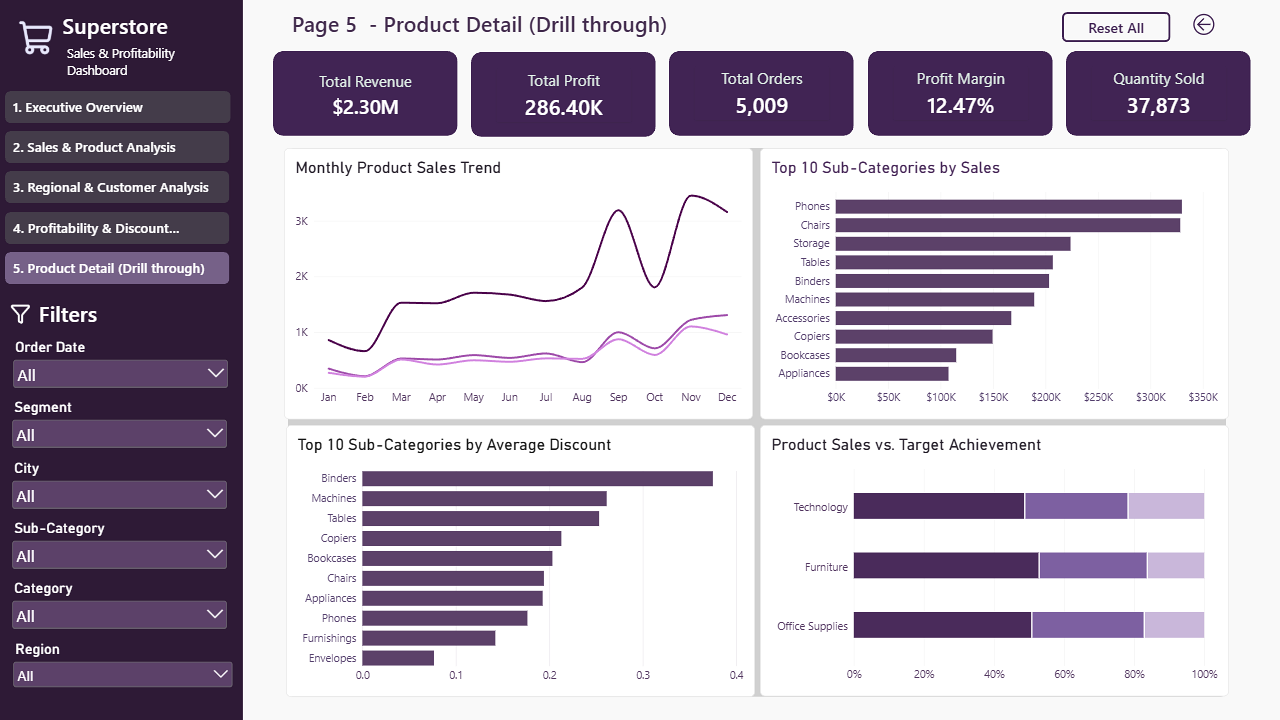

The page's visual inventory and layout, read from the dashboard file:
{"tool":"powerbi","page":{"name":"Product Detail ","canvas":[1920,1080],"ordinal":4},"visuals":[{"type":"shape","box":[0,0,367.1,1080],"z":0,"group":"g1"},{"type":"group","id":"g1","title":"Group 6","box":[0,0,367.1,1080],"z":0,"group":"g13"},{"type":"textbox","box":[77.1,20,209.6,48.3],"z":0,"group":"g7"},{"type":"shape","box":[412.6,79.6,275.5,126.6],"z":0,"group":"g8"},{"type":"shape","box":[1004.3,79.6,275.7,126.6],"z":0,"group":"g10"},{"type":"shape","box":[1300.3,79.6,275.7,126.6],"z":0,"group":"g11"},{"type":"shape","box":[1596.3,79.6,275.7,126.6],"z":0,"group":"g12"},{"type":"shape","box":[708.3,80.9,275.7,126.6],"z":0,"group":"g9"},{"type":"actionButton","box":[13.1,140,337,48],"z":0,"group":"g6"},{"type":"shape","box":[434.7,223.6,1400,819.4],"z":0},{"type":"textbox","box":[43,450,125.4,46.7],"z":0,"group":"g5"},{"type":"group","id":"g2","title":"Group 1","box":[18,510,338.4,537.9],"z":0,"group":"g3"},{"type":"slicer","fields":{"Values":["Sample - Superstore.Order Date"]},"box":[19.8,510,330.4,87],"z":0,"group":"g2"},{"type":"group","id":"g3","title":"Group 5","box":[4.9,20,351.5,1027.9],"z":1000,"group":"g1"},{"type":"image","box":[30,32,55,55],"z":1000,"group":"g13"},{"type":"textbox","box":[105.6,70,221.6,61.4],"z":1000,"group":"g7"},{"type":"group","id":"g4","title":"Group 13","box":[412.6,79.6,1460.3,128],"z":1000},{"type":"cardVisual","fields":{"Data":["Sum(Sample - Superstore.Sales)"]},"box":[412.8,101,277,88.2],"z":1000,"group":"g8"},{"type":"cardVisual","fields":{"Data":["Count(Sample - Superstore.Order ID)"]},"box":[1042.9,103.4,200,79],"z":1000,"group":"g10"},{"type":"cardVisual","fields":{"Data":["Sample - Superstore.Profit Margin"]},"box":[1338.9,103.4,200,79],"z":1000,"group":"g11"},{"type":"cardVisual","fields":{"Data":["Sum(Sample - Superstore.Quantity)"]},"box":[1634.9,103.4,200,79],"z":1000,"group":"g12"},{"type":"cardVisual","fields":{"Data":["Sum(Sample - Superstore.Profit)"]},"box":[747.7,106,200,79],"z":1000,"group":"g9"},{"type":"actionButton","box":[12.8,320,335,48],"z":1000,"group":"g6"},{"type":"image","box":[4.9,456.9,60.7,31.5],"z":1000,"group":"g5"},{"type":"slicer","fields":{"Values":["Sample - Superstore.Category"]},"box":[18.4,870,330.4,87],"z":1000,"group":"g2"},{"type":"textbox","box":[440.2,16,613.2,54.5],"z":2000},{"type":"group","id":"g5","title":"Group 3","box":[4.9,140,345.2,356.7],"z":2000,"group":"g3"},{"type":"group","id":"g6","title":"Group 2","box":[12.8,140,337.2,288],"z":2000,"group":"g5"},{"type":"actionButton","box":[12.8,380,335,48],"z":2000,"group":"g6"},{"type":"slicer","fields":{"Values":["Sample - Superstore.Sub-Category"]},"box":[18.4,780,330.4,87],"z":2000,"group":"g2"},{"type":"group","id":"g7","title":"Group 4","box":[77.1,20,250.1,111.4],"z":3000,"group":"g3"},{"type":"group","id":"g8","title":"Group 7","box":[412.6,79.6,277.1,126.6],"z":3000,"group":"g4"},{"type":"actionButton","box":[12.8,260,335,48],"z":3000,"group":"g6"},{"type":"hundredPercentStackedBarChart","title":"Product Sales vs. Target Achievement","fields":{"Category":["Sample - Superstore.Category"],"Series":["Sample - Superstore.Segment"],"Y":["Sum(Sample - Superstore.Sales)"]},"box":[1139,637,700,405],"z":3000},{"type":"slicer","fields":{"Values":["Sample - Superstore.City"]},"box":[18,690,330.4,87],"z":3000,"group":"g2"},{"type":"group","id":"g9","title":"Group 8","box":[708.3,80.9,275.7,126.6],"z":4000,"group":"g4"},{"type":"actionButton","box":[12.8,200,335,48],"z":4000,"group":"g6"},{"type":"clusteredBarChart","title":"Top 10 Sub-Categories by Sales","fields":{"Category":["Sample - Superstore.Sub-Category"],"Y":["Sum(Sample - Superstore.Sales)"]},"box":[1139,223.6,700,405],"z":4000},{"type":"slicer","fields":{"Values":["Sample - Superstore.Segment"]},"box":[18.3,600,330.4,87],"z":4000,"group":"g2"},{"type":"group","id":"g10","title":"Group 9","box":[1004.3,79.6,275.7,126.6],"z":5000,"group":"g4"},{"type":"lineChart","title":"Monthly Product Sales Trend","fields":{"Category":["Sample - Superstore.Month Short"],"Series":["Sample - Superstore.Category"],"Y":["Sum(Sample - Superstore.Quantity)"]},"box":[429,223.6,700,405],"z":5000},{"type":"slicer","fields":{"Values":["Sample - Superstore.Region"]},"box":[19.8,960,336.5,87.9],"z":5000,"group":"g2"},{"type":"group","id":"g11","title":"Group 10","box":[1300.3,79.6,275.7,126.6],"z":6000,"group":"g4"},{"type":"clusteredBarChart","title":"Top 10 Sub-Categories by Average Discount","fields":{"Category":["Sample - Superstore.Sub-Category"],"Y":["Avg(Sample - Superstore.Discount)"]},"box":[431,637,700,405.6],"z":6000},{"type":"actionButton","box":[1588.9,20.8,162,45],"z":7000},{"type":"group","id":"g12","title":"Group 11","box":[1596.3,79.6,275.7,126.6],"z":7000,"group":"g4"},{"type":"actionButton","box":[1751.4,18.1,100,40],"z":8000},{"type":"group","id":"g13","title":"Group 12","box":[0,0,367.1,1080],"z":9000}]}

Visuals, with their boxes on the page's 1920x1080 design canvas (x1, y1, x2, y2). These are canvas units, not pixel positions in the 1280x720 screenshot, which may show the page scaled, cropped or inside an application window:
shape: <bbox>0, 0, 367, 1080</bbox>
"Group 6" group: <bbox>0, 0, 367, 1080</bbox>
textbox: <bbox>77, 20, 287, 68</bbox>
shape: <bbox>413, 80, 688, 206</bbox>
shape: <bbox>1004, 80, 1280, 206</bbox>
shape: <bbox>1300, 80, 1576, 206</bbox>
shape: <bbox>1596, 80, 1872, 206</bbox>
shape: <bbox>708, 81, 984, 208</bbox>
actionButton: <bbox>13, 140, 350, 188</bbox>
shape: <bbox>435, 224, 1835, 1043</bbox>
textbox: <bbox>43, 450, 168, 497</bbox>
"Group 1" group: <bbox>18, 510, 356, 1048</bbox>
slicer - Sample - Superstore.Order Date: <bbox>20, 510, 350, 597</bbox>
"Group 5" group: <bbox>5, 20, 356, 1048</bbox>
image: <bbox>30, 32, 85, 87</bbox>
textbox: <bbox>106, 70, 327, 131</bbox>
"Group 13" group: <bbox>413, 80, 1873, 208</bbox>
cardVisual - Sum(Sample - Superstore.Sales): <bbox>413, 101, 690, 189</bbox>
cardVisual - Count(Sample - Superstore.Order ID): <bbox>1043, 103, 1243, 182</bbox>
cardVisual - Sample - Superstore.Profit Margin: <bbox>1339, 103, 1539, 182</bbox>
cardVisual - Sum(Sample - Superstore.Quantity): <bbox>1635, 103, 1835, 182</bbox>
cardVisual - Sum(Sample - Superstore.Profit): <bbox>748, 106, 948, 185</bbox>
actionButton: <bbox>13, 320, 348, 368</bbox>
image: <bbox>5, 457, 66, 488</bbox>
slicer - Sample - Superstore.Category: <bbox>18, 870, 349, 957</bbox>
textbox: <bbox>440, 16, 1053, 70</bbox>
"Group 3" group: <bbox>5, 140, 350, 497</bbox>
"Group 2" group: <bbox>13, 140, 350, 428</bbox>
actionButton: <bbox>13, 380, 348, 428</bbox>
slicer - Sample - Superstore.Sub-Category: <bbox>18, 780, 349, 867</bbox>
"Group 4" group: <bbox>77, 20, 327, 131</bbox>
"Group 7" group: <bbox>413, 80, 690, 206</bbox>
actionButton: <bbox>13, 260, 348, 308</bbox>
"Product Sales vs. Target Achievement" hundredPercentStackedBarChart: <bbox>1139, 637, 1839, 1042</bbox>
slicer - Sample - Superstore.City: <bbox>18, 690, 348, 777</bbox>
"Group 8" group: <bbox>708, 81, 984, 208</bbox>
actionButton: <bbox>13, 200, 348, 248</bbox>
"Top 10 Sub-Categories by Sales" clusteredBarChart: <bbox>1139, 224, 1839, 629</bbox>
slicer - Sample - Superstore.Segment: <bbox>18, 600, 349, 687</bbox>
"Group 9" group: <bbox>1004, 80, 1280, 206</bbox>
"Monthly Product Sales Trend" lineChart: <bbox>429, 224, 1129, 629</bbox>
slicer - Sample - Superstore.Region: <bbox>20, 960, 356, 1048</bbox>
"Group 10" group: <bbox>1300, 80, 1576, 206</bbox>
"Top 10 Sub-Categories by Average Discount" clusteredBarChart: <bbox>431, 637, 1131, 1043</bbox>
actionButton: <bbox>1589, 21, 1751, 66</bbox>
"Group 11" group: <bbox>1596, 80, 1872, 206</bbox>
actionButton: <bbox>1751, 18, 1851, 58</bbox>
"Group 12" group: <bbox>0, 0, 367, 1080</bbox>
